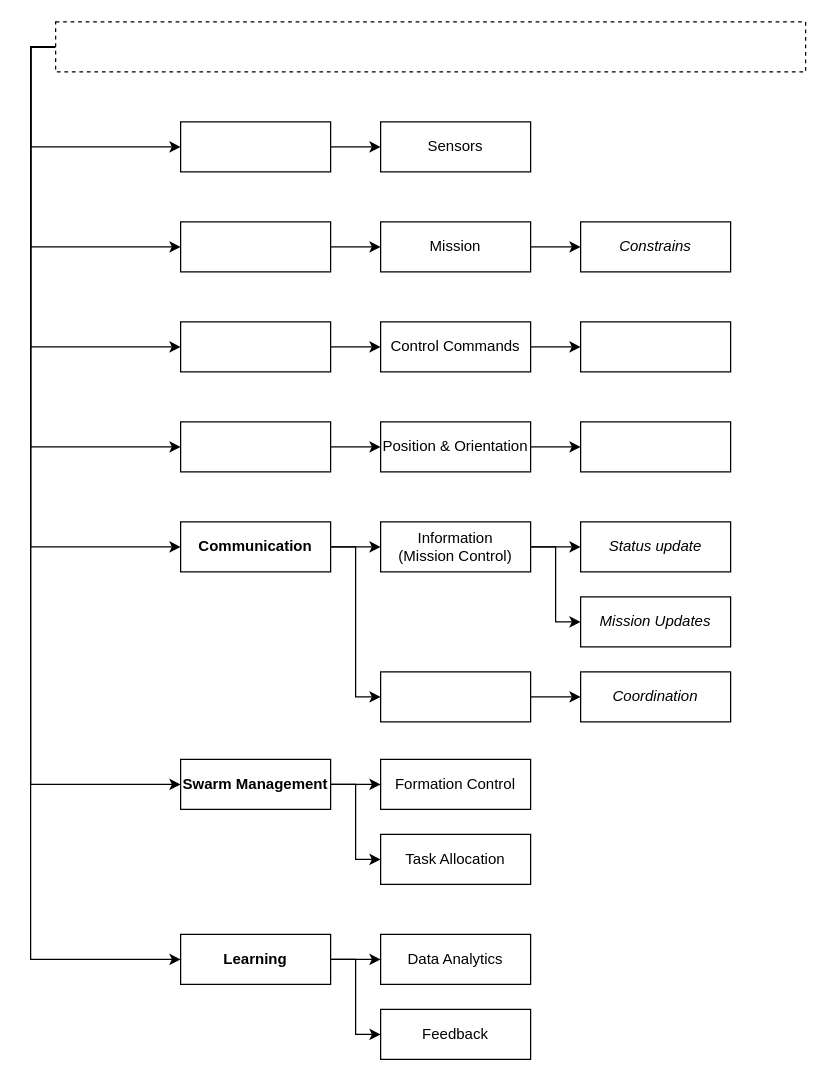
Some shapes in this 828 by 1081 pixel diagram are drawn without their labels. The centre of each missing label's shape, as x and y in pixels:
Actuators: the point at 655,346
Decision-Making: the point at 255,346
Inter-Agent: the point at 455,696
Localization: the point at 655,446
Navigation: the point at 255,446
Perception: the point at 255,146
Planning: the point at 255,246
SAM-1 AMM Component architecture: the point at 430,46
